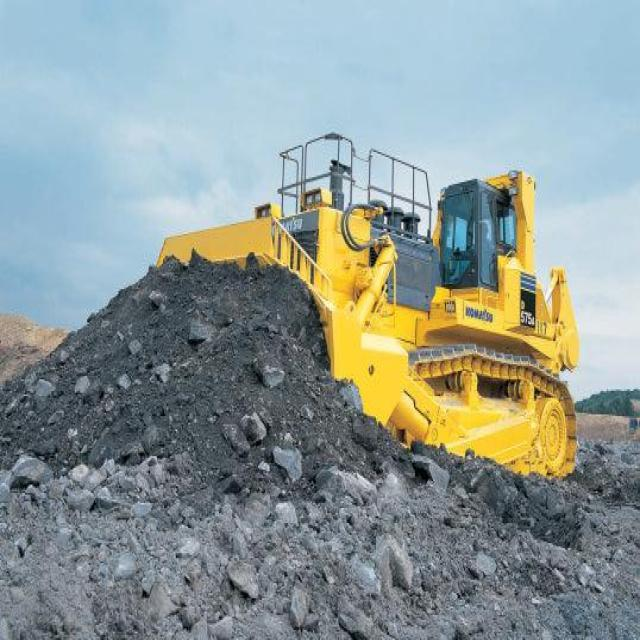buldozerpayloadergrader: (114, 100, 613, 520)
